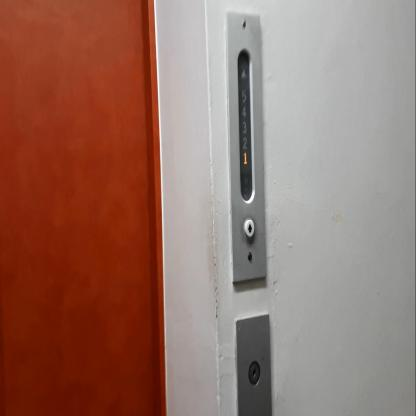keyhole: (249, 359, 260, 387)
led: (236, 46, 254, 203)
up: (244, 218, 254, 239)
